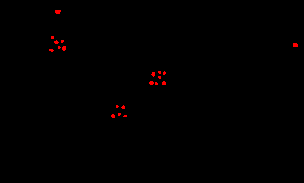Target: (55, 10, 61, 14), (54, 40, 59, 44), (293, 43, 298, 47), (62, 46, 66, 51), (151, 72, 155, 77), (149, 81, 154, 85), (162, 81, 166, 85), (121, 105, 125, 109), (111, 114, 115, 118), (49, 49, 54, 52), (163, 71, 166, 75), (51, 36, 54, 39), (61, 40, 64, 43), (58, 46, 61, 49), (158, 71, 161, 74), (158, 76, 161, 79), (155, 82, 158, 85), (116, 105, 119, 108), (118, 113, 121, 116), (123, 115, 127, 117)
